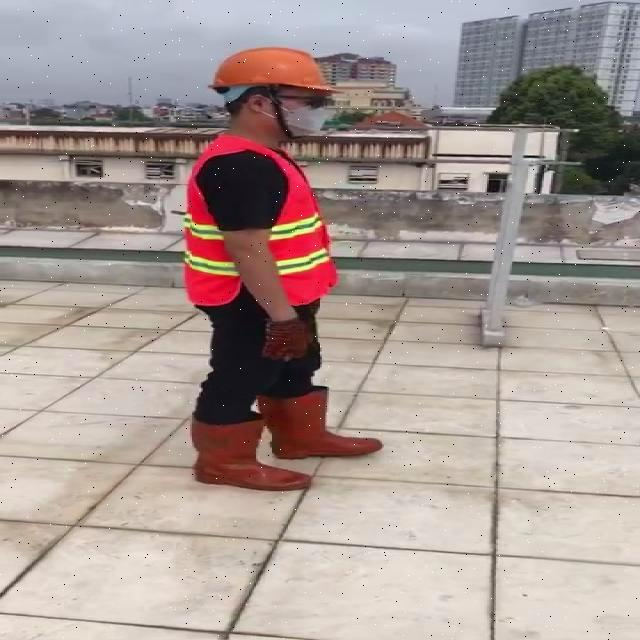Hard_hat: (205, 44, 340, 107)
Person: (154, 44, 389, 498)
Vest: (183, 136, 337, 314)
